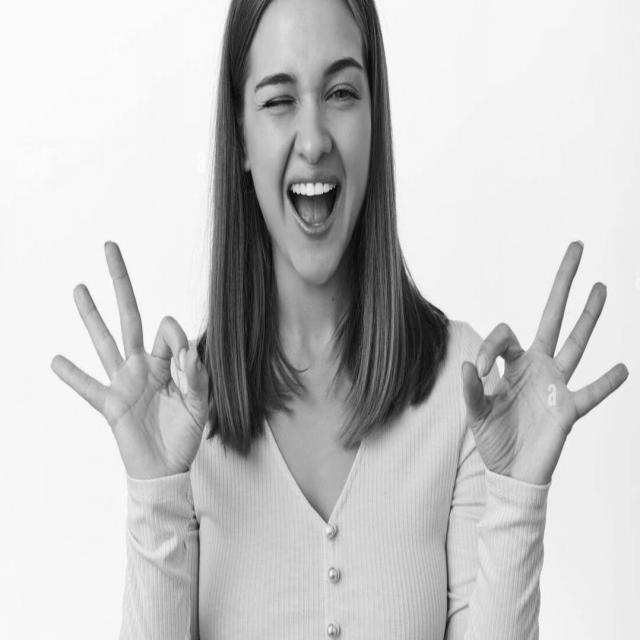perfect: (456, 230, 633, 485), (47, 232, 215, 490)
